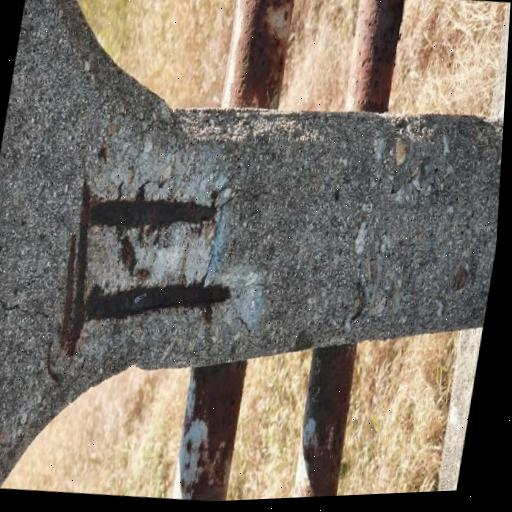exposed_rebar: (86, 283, 230, 320), (60, 181, 90, 356), (89, 199, 216, 229), (121, 236, 137, 276)
